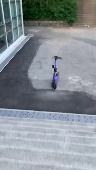beam: (49, 54, 63, 92)
